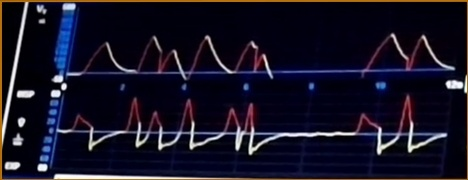Double_Triggering Flow: (65, 91, 447, 165)
Double_Triggering Volume: (76, 22, 454, 80)
